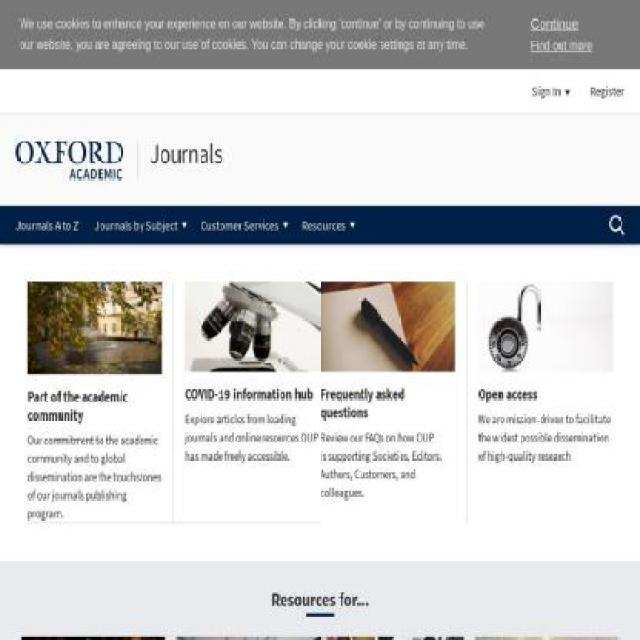button: (27, 281, 162, 374), (185, 280, 320, 372), (320, 280, 455, 372), (478, 280, 613, 372), (27, 386, 162, 425), (320, 384, 455, 422), (94, 205, 178, 244), (201, 205, 279, 244), (185, 385, 320, 403), (478, 385, 613, 403), (16, 205, 78, 244), (302, 205, 346, 244), (176, 636, 321, 639), (320, 636, 465, 639), (21, 636, 165, 639), (475, 636, 619, 639), (609, 215, 625, 236)
